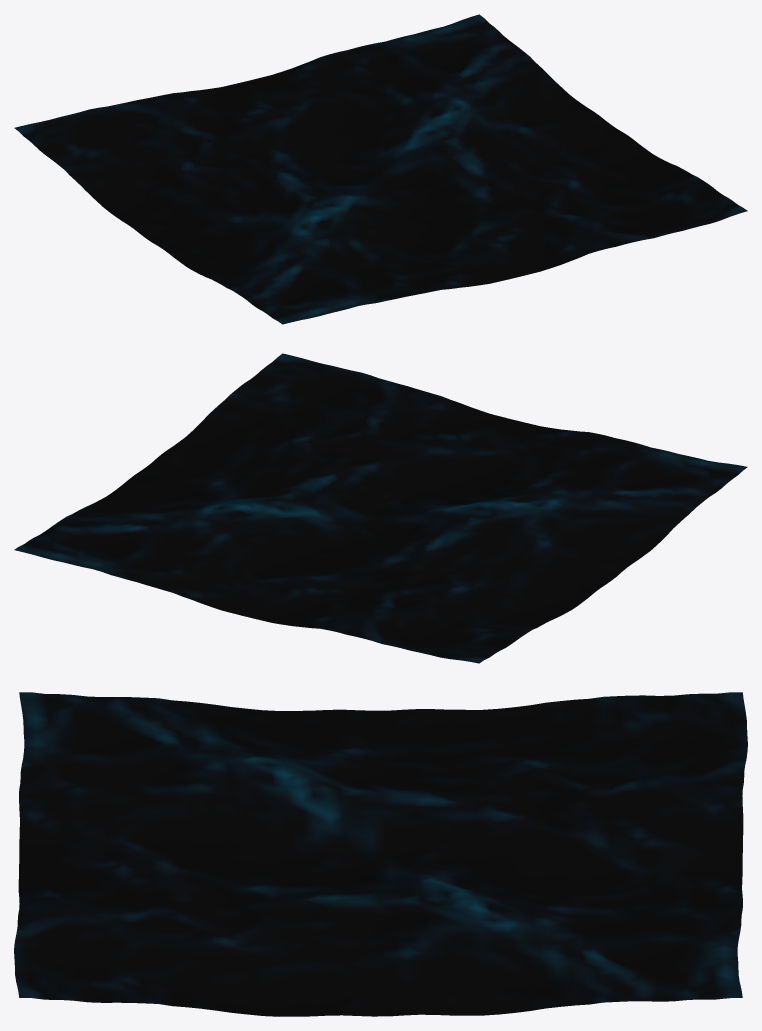
File: Sea(3).glb
The picture shows the model from 3 angles, top to bottom: view 1: azimuth 30°, elevation 25°; view 2: azimuth 150°, elevation 25°; view 3: azimuth 270°, elevation 25°; orthographic projection. The views are drawn at different scales.
Visible parts, largest first — view 1: Sea; view 2: Sea; view 3: Sea.
Part boxes in pixels (box(x1,y1,x2,y2)): Sea: box(14, 14, 747, 324); Sea: box(14, 353, 747, 663); Sea: box(14, 692, 747, 1016).
Size of the model in its own units: 50.35 by 1.77 by 50.72.
